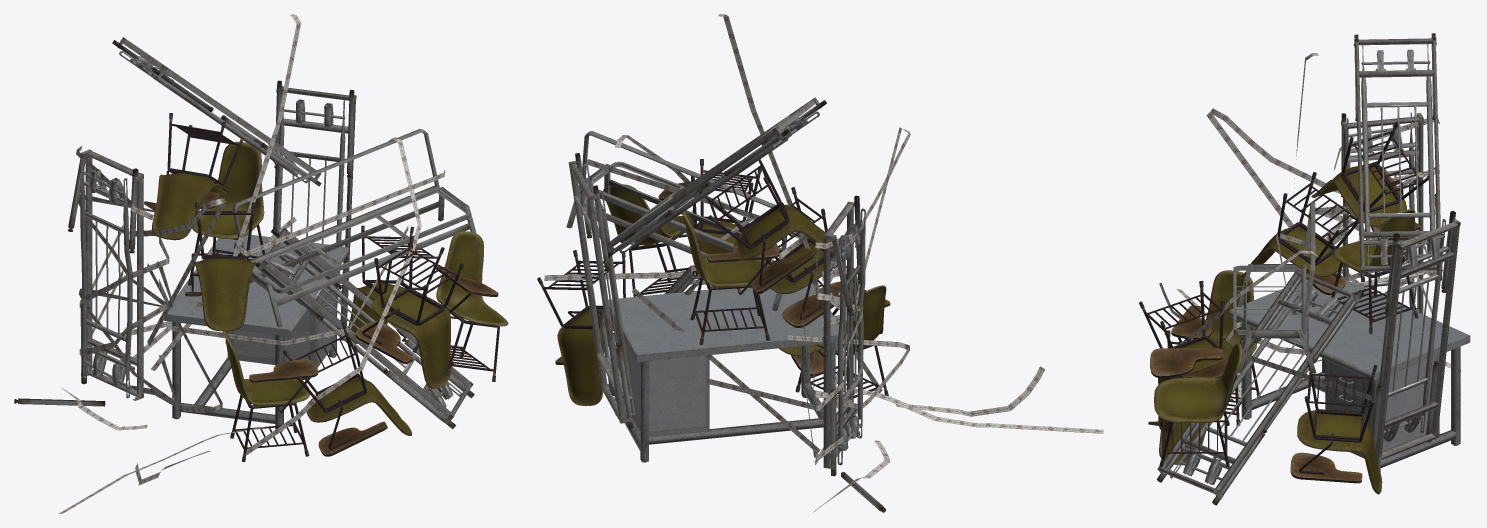
The model's file is sm39_052_poilicebarricade01a.fbx.
3 views of the same model, side by side, from view 1: azimuth 30°, elevation 25°; view 2: azimuth 150°, elevation 25°; view 3: azimuth 270°, elevation 25° (orthographic). The views are drawn at different scales.
Parts seen in each view (by area): view 1: LOD_1_Group_0_Sub_3__sm30_001_ChairDesk01A_A_Mat, LOD_1_Group_0_Sub_4__sm30_004_FoldingTable02A_A_Mat, LOD_1_Group_0_Sub_5__sm42_006_BlastBarricade01A_B_Mat, LOD_1_Group_0_Sub_1__sm30_059_HospitalDesk01A_A_Mat, LOD_1_Group_0_Sub_2__sm30_002_OfficeSofa01A_A_Mat; view 2: LOD_1_Group_0_Sub_3__sm30_001_ChairDesk01A_A_Mat, LOD_1_Group_0_Sub_4__sm30_004_FoldingTable02A_A_Mat, LOD_1_Group_0_Sub_1__sm30_059_HospitalDesk01A_A_Mat, LOD_1_Group_0_Sub_5__sm42_006_BlastBarricade01A_B_Mat, LOD_1_Group_0_Sub_2__sm30_002_OfficeSofa01A_A_Mat; view 3: LOD_1_Group_0_Sub_4__sm30_004_FoldingTable02A_A_Mat, LOD_1_Group_0_Sub_3__sm30_001_ChairDesk01A_A_Mat, LOD_1_Group_0_Sub_1__sm30_059_HospitalDesk01A_A_Mat, LOD_1_Group_0_Sub_5__sm42_006_BlastBarricade01A_B_Mat, LOD_1_Group_0_Sub_2__sm30_002_OfficeSofa01A_A_Mat.
Part boxes in pixels (x1,y1,x2,y2): LOD_1_Group_0_Sub_3__sm30_001_ChairDesk01A_A_Mat: [144, 113, 508, 461]; LOD_1_Group_0_Sub_4__sm30_004_FoldingTable02A_A_Mat: [14, 37, 474, 429]; LOD_1_Group_0_Sub_5__sm42_006_BlastBarricade01A_B_Mat: [58, 14, 445, 513]; LOD_1_Group_0_Sub_1__sm30_059_HospitalDesk01A_A_Mat: [164, 234, 349, 431]; LOD_1_Group_0_Sub_2__sm30_002_OfficeSofa01A_A_Mat: [232, 129, 476, 327]; LOD_1_Group_0_Sub_3__sm30_001_ChairDesk01A_A_Mat: [537, 159, 890, 405]; LOD_1_Group_0_Sub_4__sm30_004_FoldingTable02A_A_Mat: [568, 97, 885, 512]; LOD_1_Group_0_Sub_1__sm30_059_HospitalDesk01A_A_Mat: [608, 283, 843, 462]; LOD_1_Group_0_Sub_5__sm42_006_BlastBarricade01A_B_Mat: [544, 14, 1103, 512]; LOD_1_Group_0_Sub_2__sm30_002_OfficeSofa01A_A_Mat: [566, 131, 813, 311]; LOD_1_Group_0_Sub_4__sm30_004_FoldingTable02A_A_Mat: [1157, 33, 1460, 505]; LOD_1_Group_0_Sub_3__sm30_001_ChairDesk01A_A_Mat: [1139, 121, 1428, 494]; LOD_1_Group_0_Sub_1__sm30_059_HospitalDesk01A_A_Mat: [1228, 280, 1470, 472]; LOD_1_Group_0_Sub_5__sm42_006_BlastBarricade01A_B_Mat: [1159, 53, 1461, 400]; LOD_1_Group_0_Sub_2__sm30_002_OfficeSofa01A_A_Mat: [1233, 202, 1316, 373].
Size of the model in its own units: 3.93 by 3.22 by 2.5.
